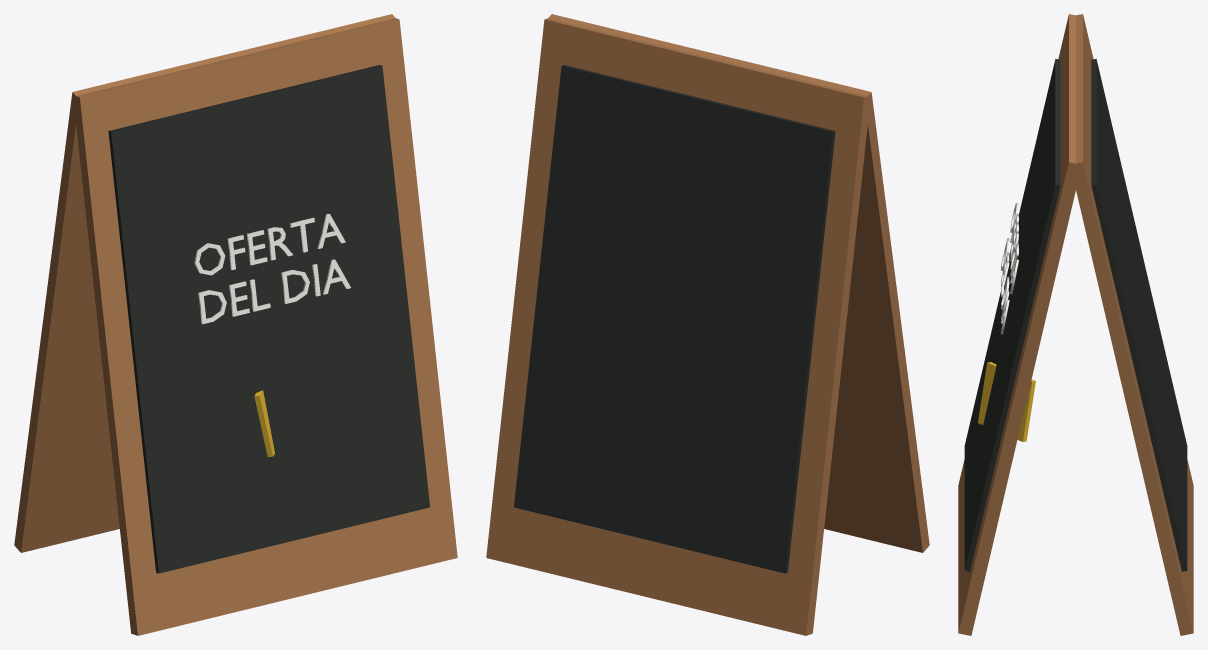
Rendered from SidewalkSign.fbx.
3 views of the same model, side by side, from view 1: azimuth 30°, elevation 25°; view 2: azimuth 150°, elevation 25°; view 3: azimuth 270°, elevation 25° (orthographic). The views are drawn at different scales.
Parts seen in each view (by area): view 1: SidewalkSign; view 2: SidewalkSign; view 3: SidewalkSign.
Boxes of the visible parts, x1,y1,x2,y2 form: SidewalkSign: [14, 14, 457, 635]; SidewalkSign: [486, 14, 929, 635]; SidewalkSign: [958, 14, 1193, 635].
Size of the model in its own units: 0.66 by 0.9833 by 0.4424.
